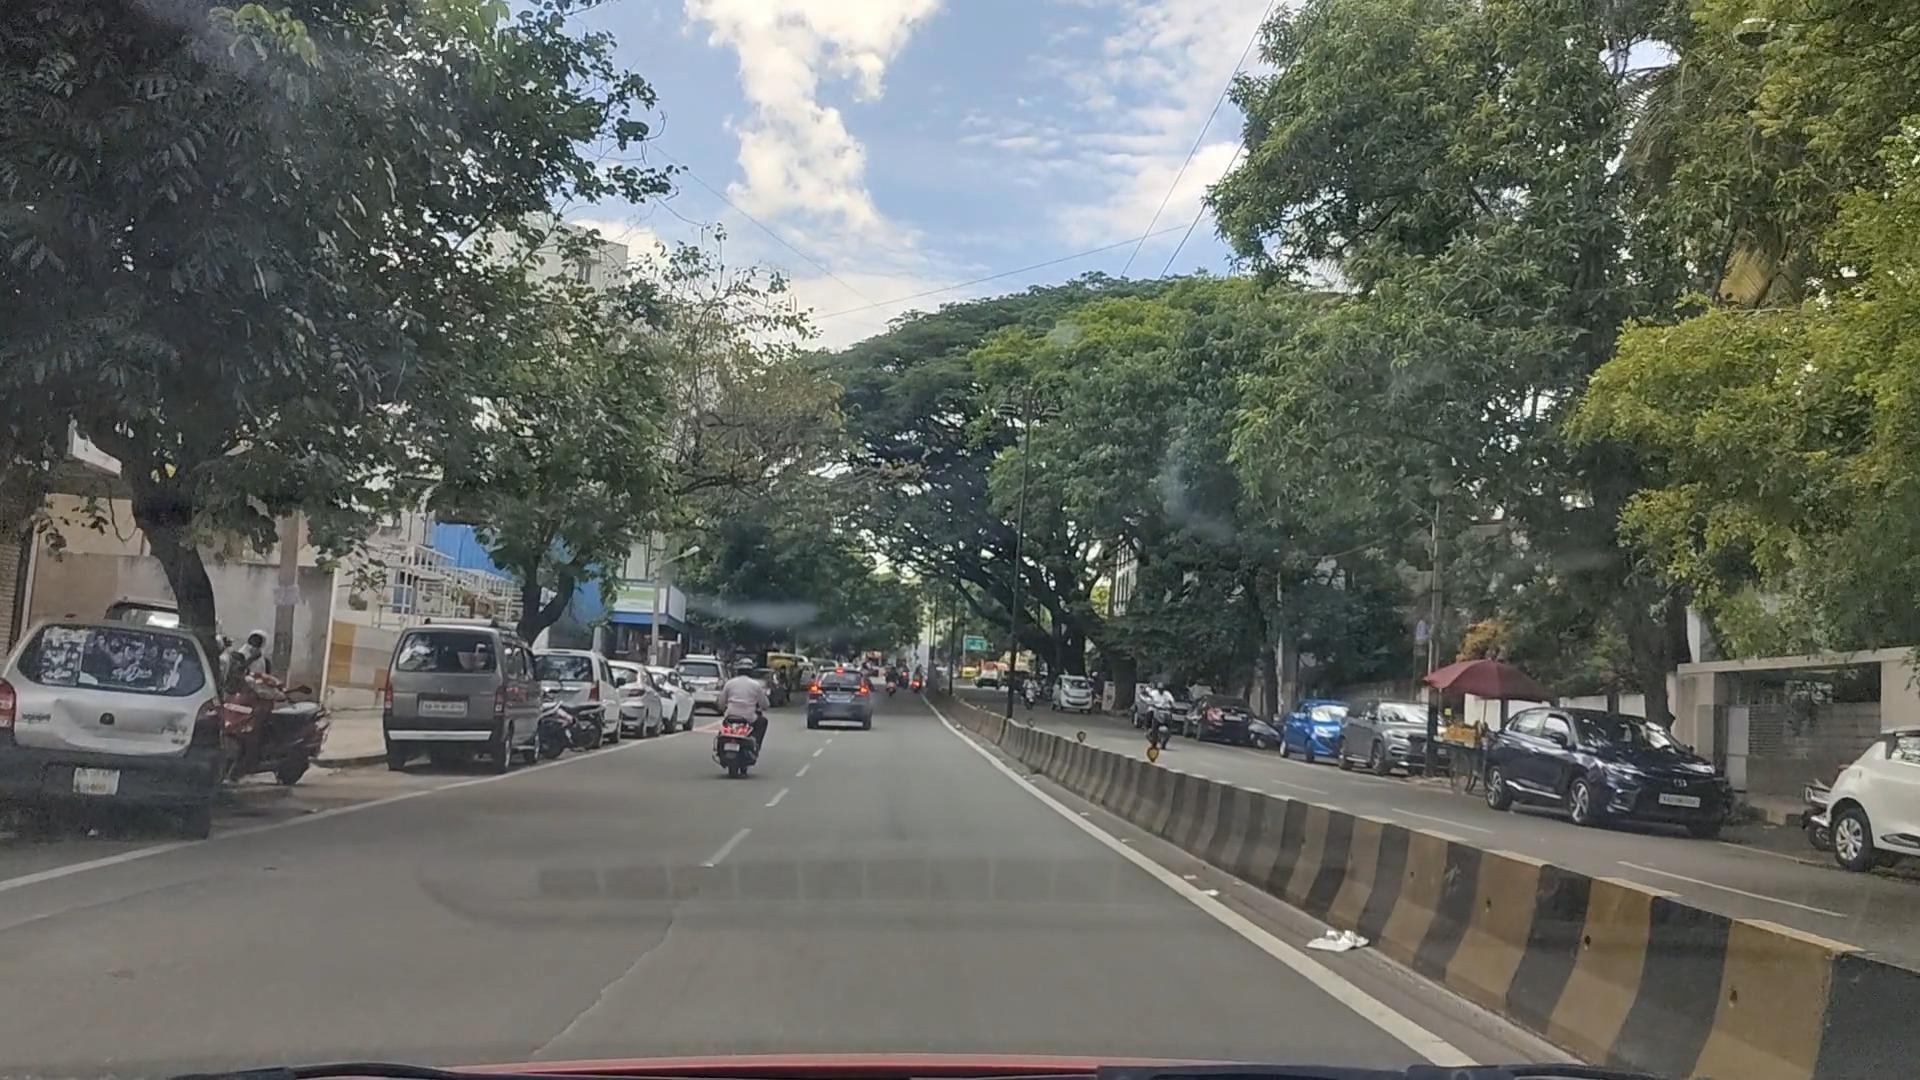LMV: (18, 630, 241, 862), (695, 669, 791, 790)
